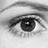eye: (22, 19, 35, 32)
